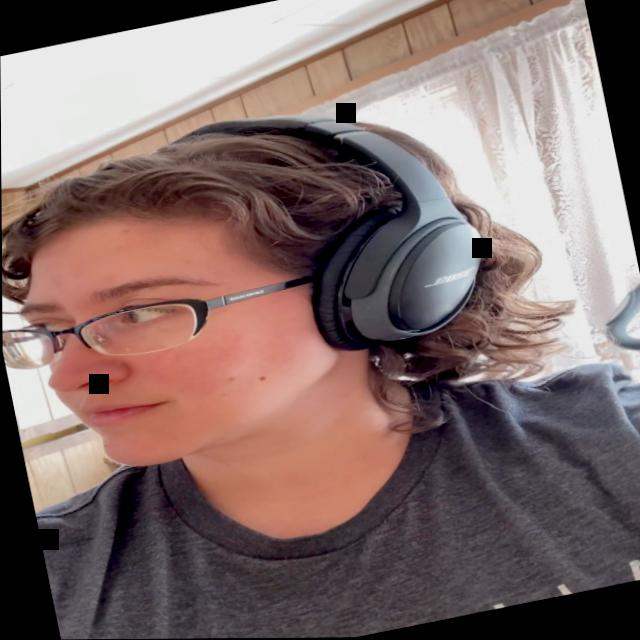NO-Mask: (1, 180, 349, 487)
